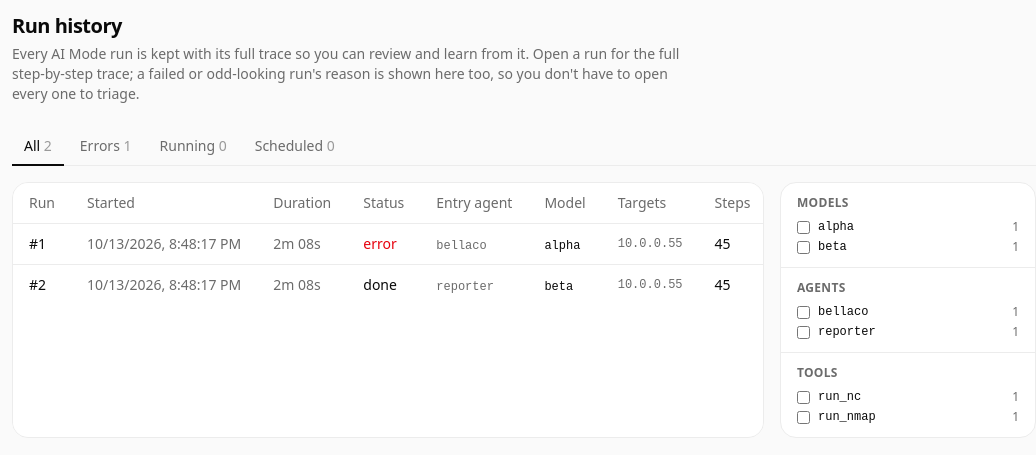
AiRunsPage filters › applies a filter when a model cell is clicked, and the Errors tab narrows to failures
The image size is (1036, 455).
Expected: the link "#1" is shown, [29, 234, 46, 253]
Click the button titled "Filter by model beta".
click(559, 287)  # box [544, 279, 573, 295]
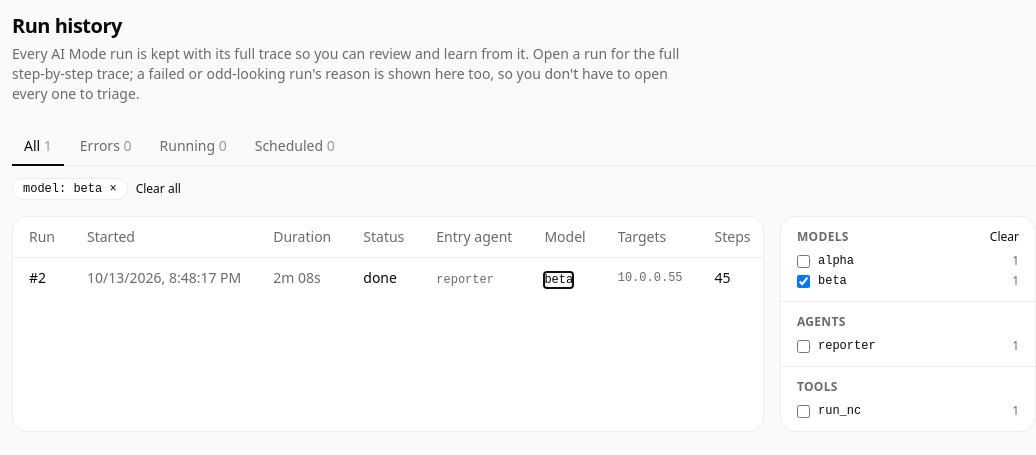
Result: the link "#1" is gone
Click the button "Clear all".
click(158, 189)  # box [136, 181, 181, 197]
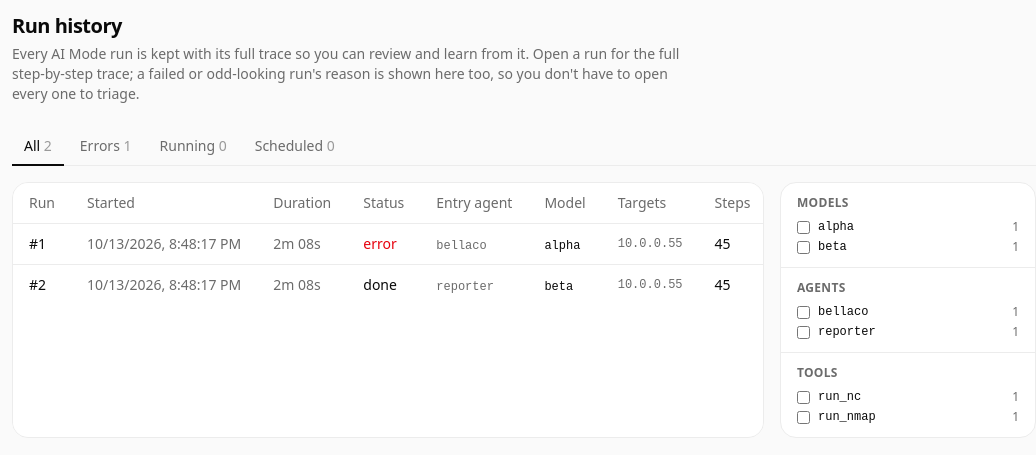
Click the button "Errors 1".
click(106, 147)  # box [68, 128, 144, 166]
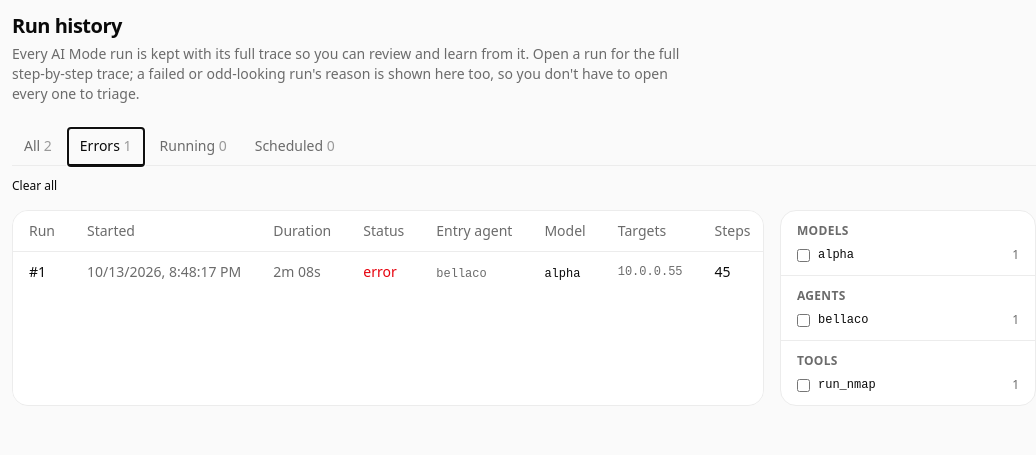
Result: the link "#1" is shown at [29, 262, 46, 281]
Result: the link "#2" is gone
